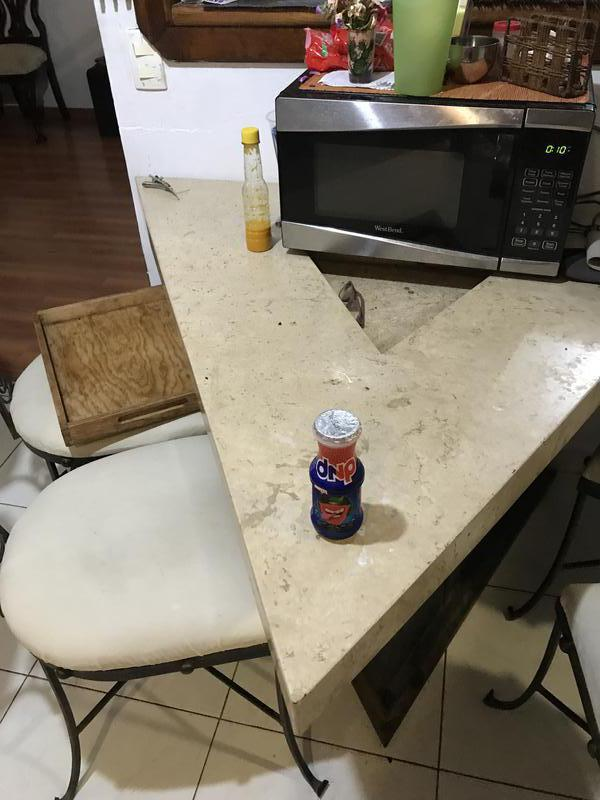danup: (309, 413, 365, 539)
